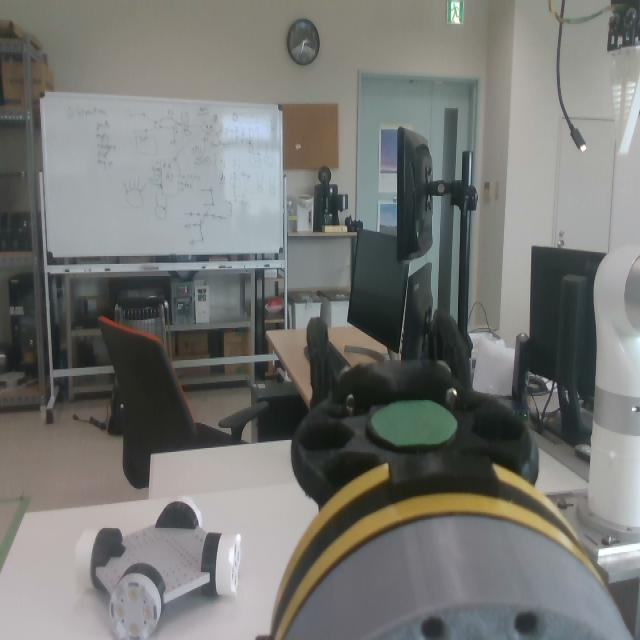body_connector: (286, 517, 635, 640)
connection: (257, 453, 636, 640)
leg: (258, 315, 608, 640)
leg_connector: (272, 452, 600, 639)
marker: (369, 398, 457, 446)
